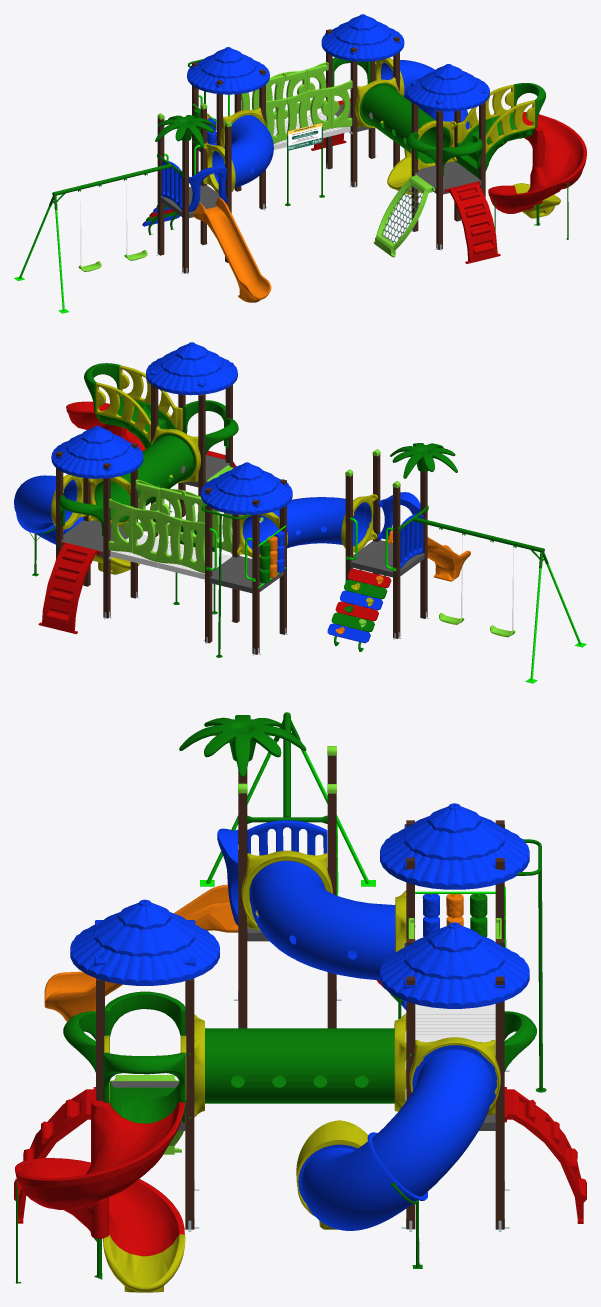
3 renders of one model, top to bottom at view 1: azimuth 30°, elevation 25°; view 2: azimuth 150°, elevation 25°; view 3: azimuth 270°, elevation 25°, orthographic. The views are drawn at different scales.
Visible parts, largest first — view 1: object 11, object 17, object 21, object 8, object 26, TOLDO M2, TOLDO M2.002, TOLDO M2.001, ESCALADA M2.001, object 34, object 38, LATERAL M1.002 (+18 smaller); view 2: object 21, object 11, object 17, TOLDO M2, TOLDO M2.002, TOLDO M2.001, ESCALADA M2, object 26, object 38, object 34, RAMPA DE AGARRA.004, PRANCHA.001 (+23 smaller); view 3: object 21, object 11, object 8, TOLDO M2, TOLDO M2.002, TOLDO M2.001, object 26, object 38, object 34, ESCALADA M2, COLUNA MAD PLAST 9 X 9CM.010, ESCALADA M2.001 (+10 smaller).
Part boxes in pixels (x1,y1,x2,y2): object 11: (155,57,568,239); object 17: (241,62,435,257); object 21: (161,60,469,211); object 8: (488,112,586,213); object 26: (187,59,271,302); TOLDO M2: (407,64,489,111); TOLDO M2.002: (321,14,404,61); TOLDO M2.001: (187,47,269,94); ESCALADA M2.001: (445,181,500,263); object 34: (49,89,351,210); object 38: (273,77,456,170); LATERAL M1.002: (478,100,535,153); object 21: (14,475,423,576); object 11: (51,363,457,574); object 17: (108,465,263,573); TOLDO M2: (146,342,237,395); TOLDO M2.002: (51,426,143,478); TOLDO M2.001: (200,462,292,515); ESCALADA M2: (38,542,100,633); object 26: (201,503,470,657); object 38: (88,426,231,582); object 34: (136,490,548,568); RAMPA DE AGARRA.004: (327,569,387,651); PRANCHA.001: (331,568,391,632); object 21: (217,820,497,1268); object 11: (15,715,500,1292); object 8: (15,1100,185,1256); TOLDO M2: (70,899,219,985); TOLDO M2.002: (380,922,529,1008); TOLDO M2.001: (380,803,529,889); object 26: (44,839,546,1092); object 38: (185,1004,495,1119); object 34: (238,712,415,1054); ESCALADA M2: (504,1087,586,1223); COLUNA MAD PLAST 9 X 9CM.010: (185,978,194,1229); ESCALADA M2.001: (14,1087,95,1223).
Size of the model in its own units: 10.46 by 3.47 by 5.83.
Materials: 51 (4 with a texture image).
